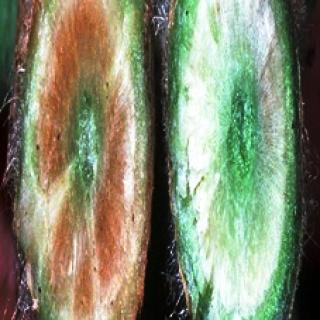wilt: (163, 0, 289, 275)
